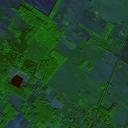alloviz: (8, 74, 24, 89)
